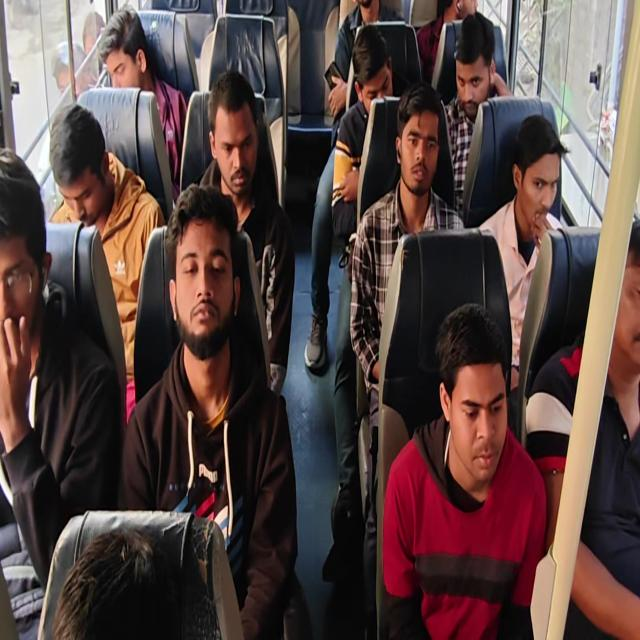person: (48, 499, 208, 640), (430, 305, 518, 502), (162, 165, 244, 357), (0, 140, 49, 398), (45, 101, 117, 232), (392, 79, 447, 209), (508, 115, 566, 232), (205, 72, 261, 192), (96, 5, 158, 106), (453, 10, 500, 128), (610, 208, 640, 388), (347, 22, 396, 114), (344, 0, 391, 39), (437, 0, 482, 35)
